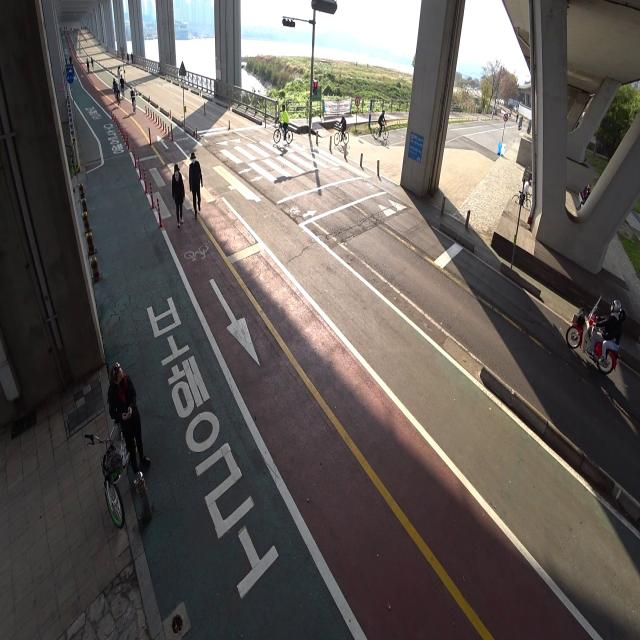Motorcycle: (564, 293, 626, 375)
